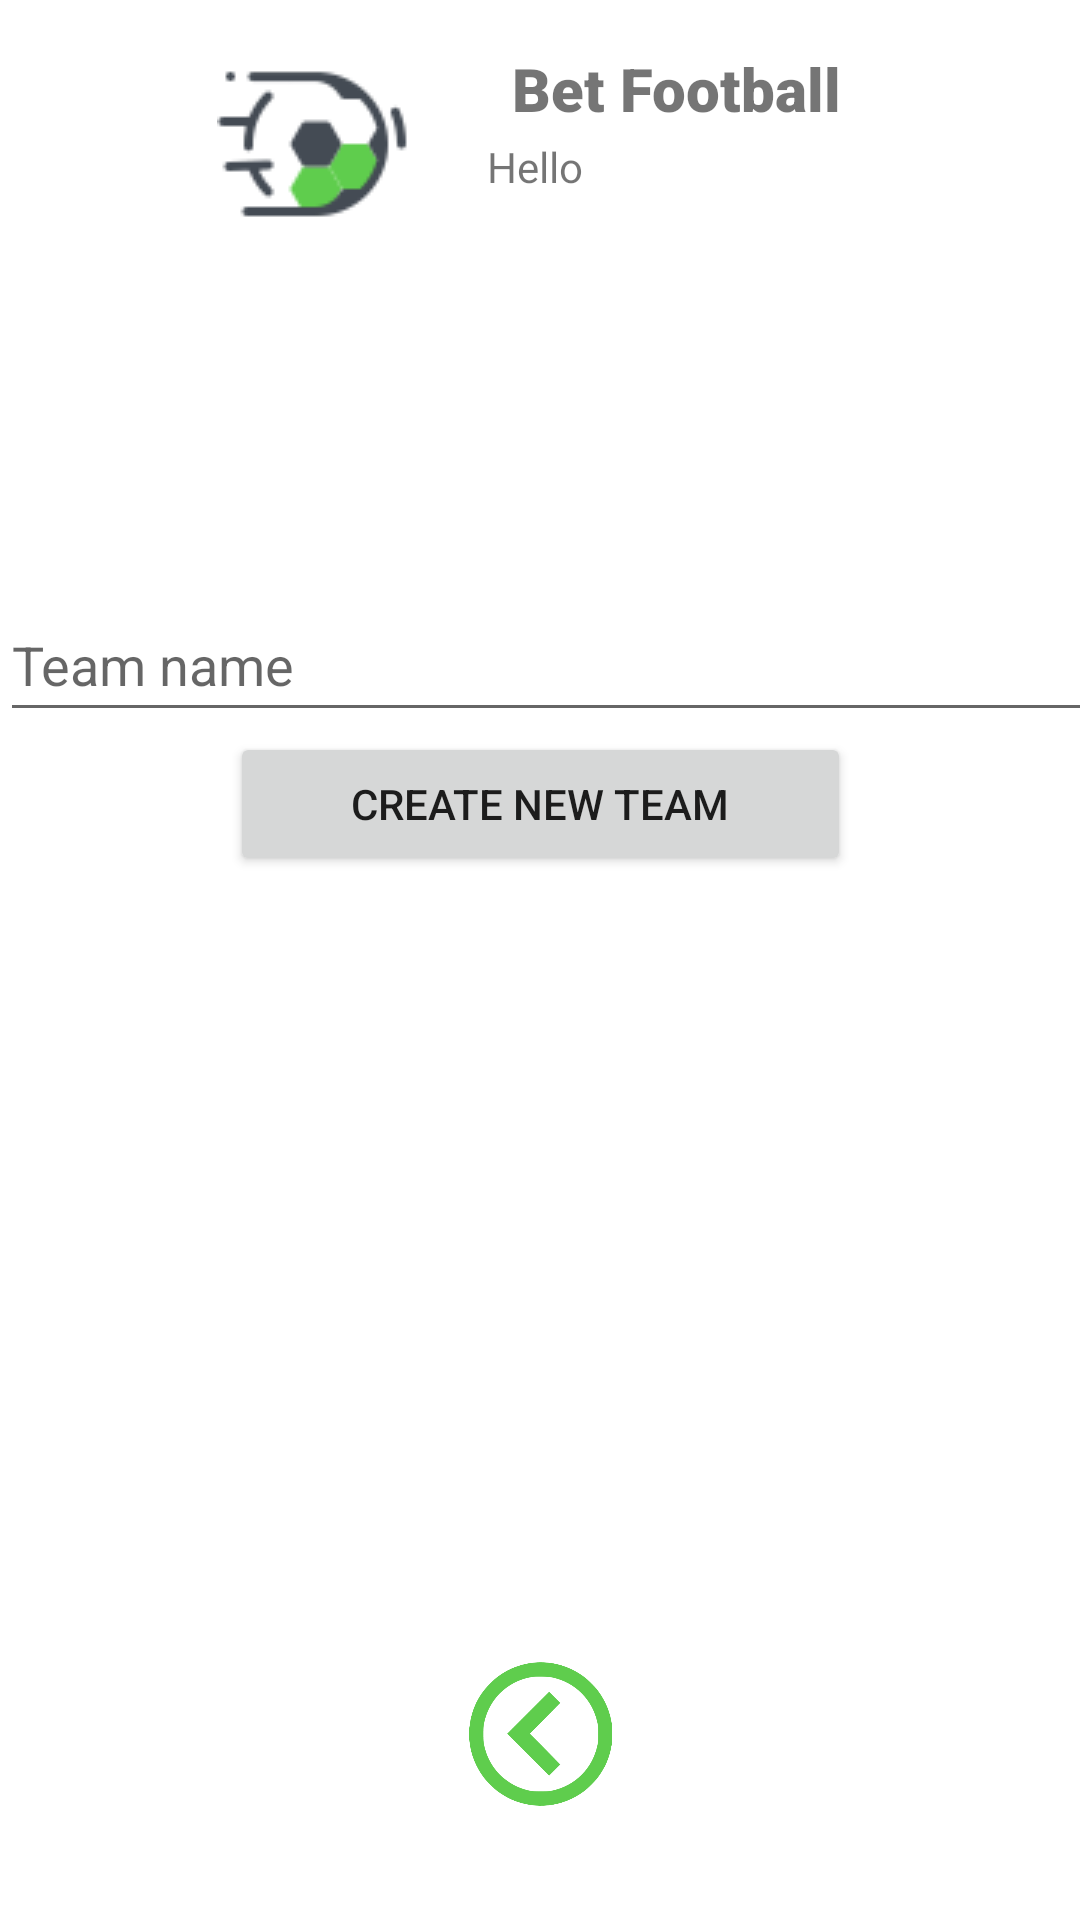

Icon bounding boxes for this 1080*1920 phone screenshot, format region(x1, y1, x2, y2):
back: region(469, 1662, 612, 1806)
